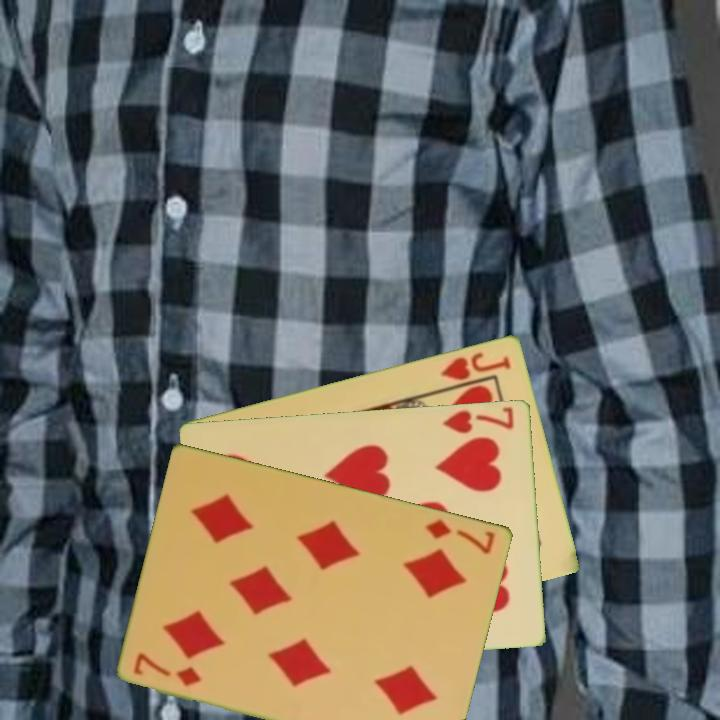7d: (423, 515, 498, 557), (130, 649, 204, 689)
7h: (439, 403, 517, 436)
Jh: (436, 348, 514, 392)
